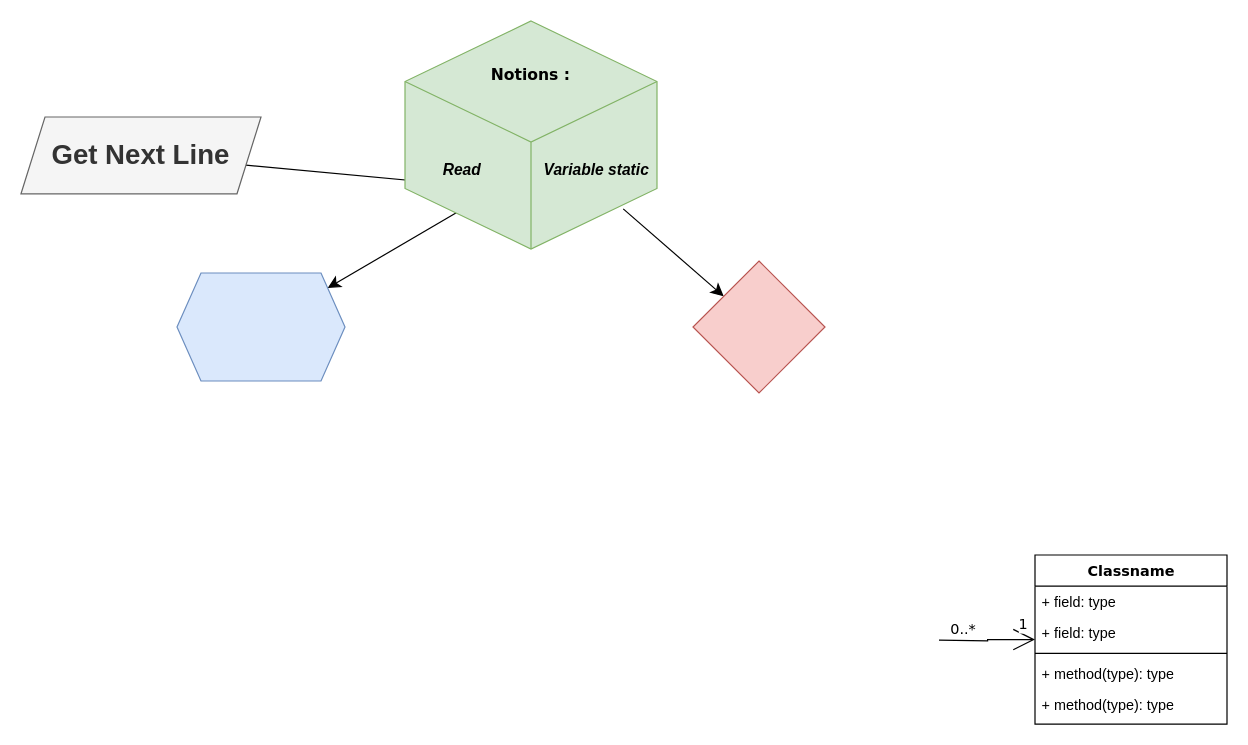
Image size: 1248x745. Some labels were removed from this diagram. The centre of each missing label's shape, as x and y in pixels:
Conditions: (260,326)
Securité Check: (758,326)
